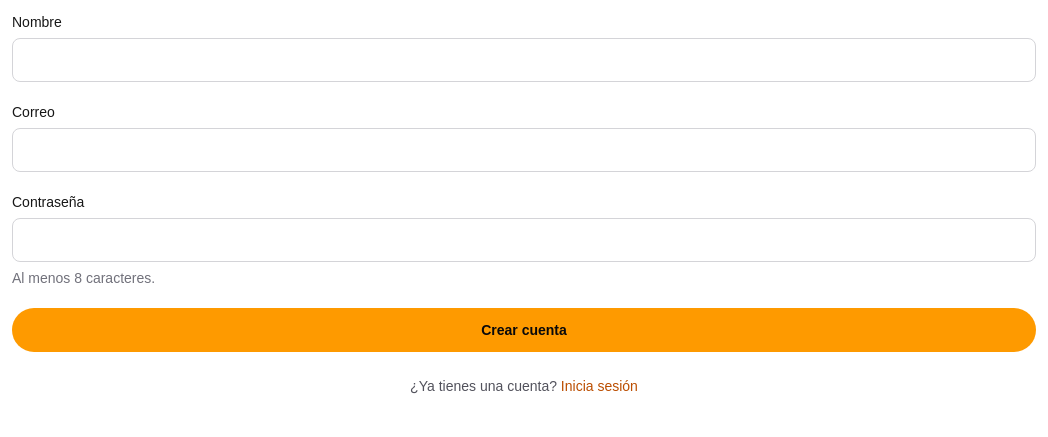
Test: FormularioRegistro (HU-03) › avisa del correo inválido y de la contraseña corta; el aviso desaparece al corregir el campo
Type "Begoña Ñahui Ávila" into the field labelled "Nombre".
click(524, 60); type("Begoña Ñahui Ávila")  # box [12,38,1036,82]
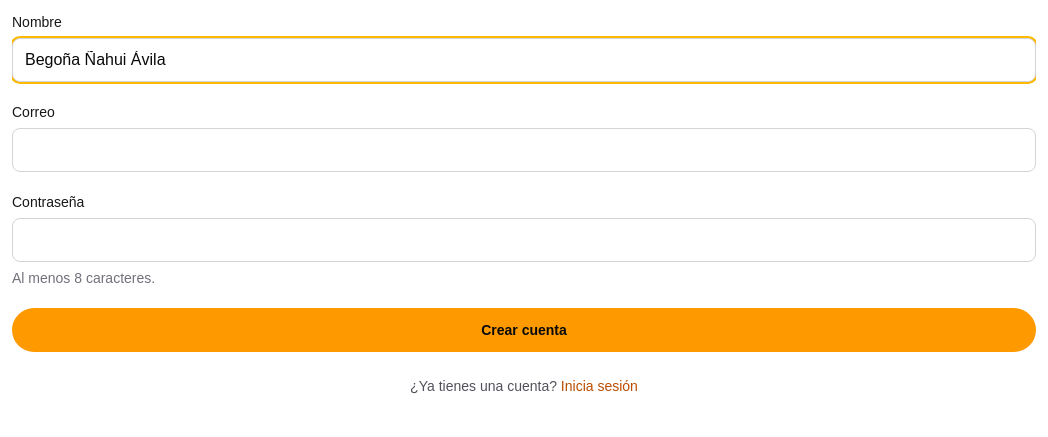
Type "begona@correo" into the field labelled "Correo".
click(524, 150); type("begona@correo")  # box [12,128,1036,172]
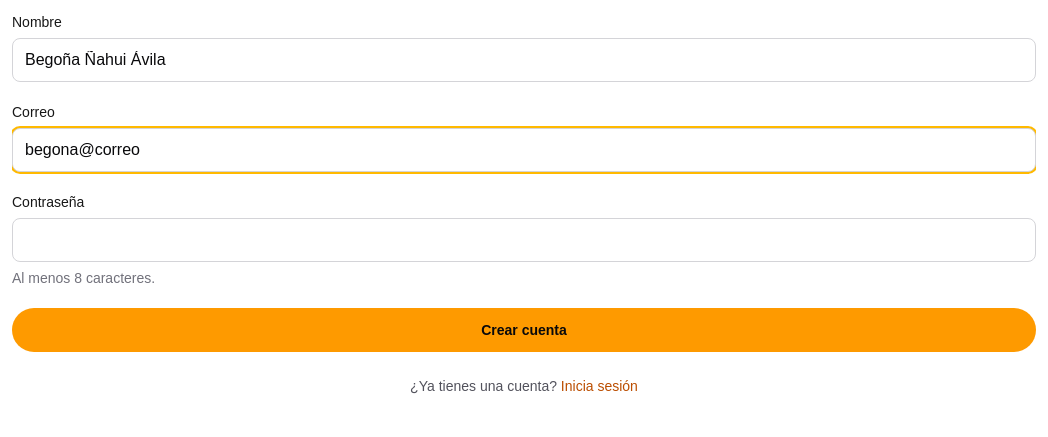
Type "corta" into the password field labelled "Contraseña".
click(524, 240); type("corta")  # box [12,218,1036,262]
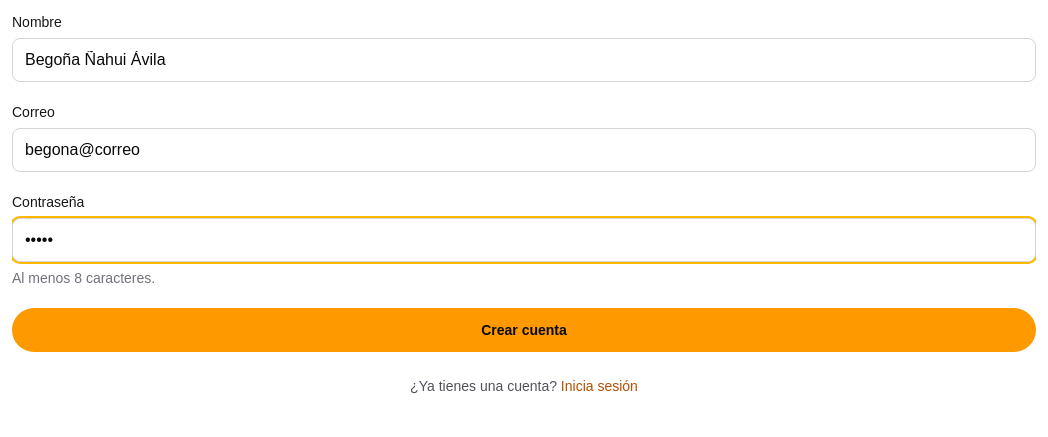
Click the button "Crear cuenta".
click(524, 330)  # box [12,308,1036,352]
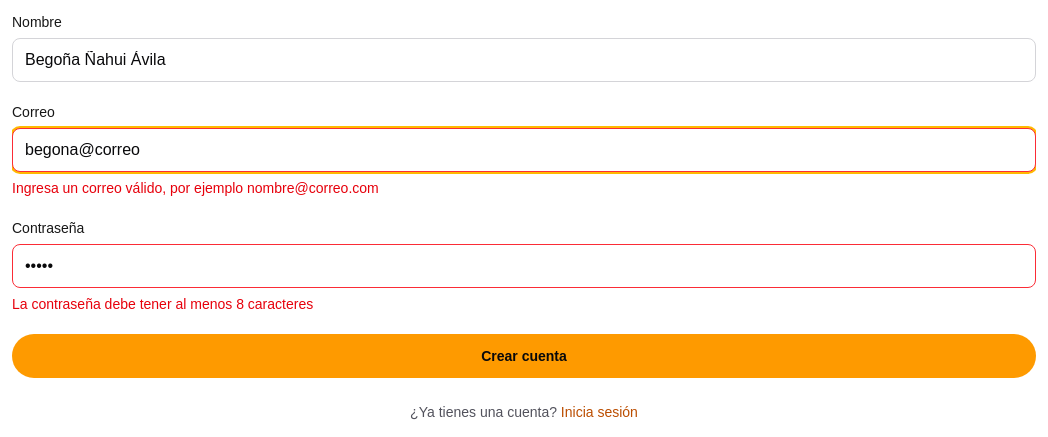
Check: the text "Ingresa un correo válido, por ejemplo nombre@correo.com" is shown, box [12,180,379,196]
Check: the text "La contraseña debe tener al menos 8 caracteres" is shown, box [12,296,313,312]
Type ".pe" into the field labelled "Correo".
click(524, 150); type(".pe")  # box [12,128,1036,172]
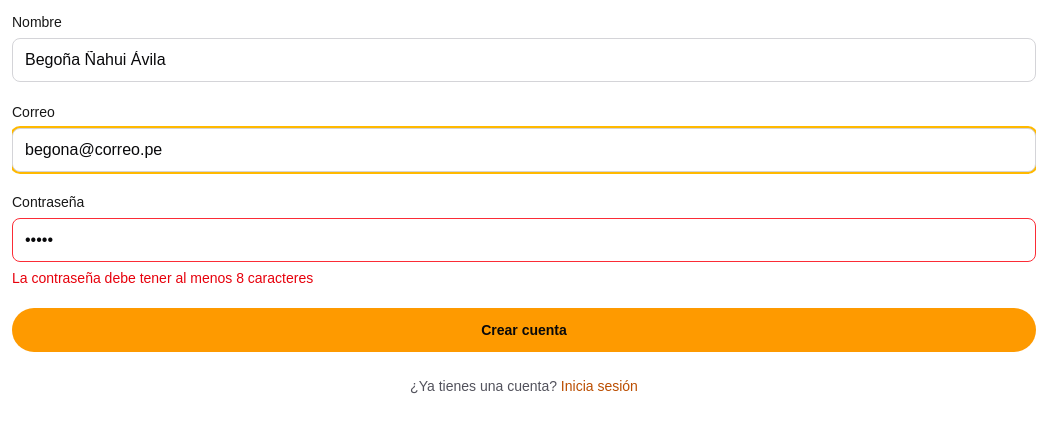
Check: the text "Ingresa un correo válido, por ejemplo nombre@correo.com" is gone
